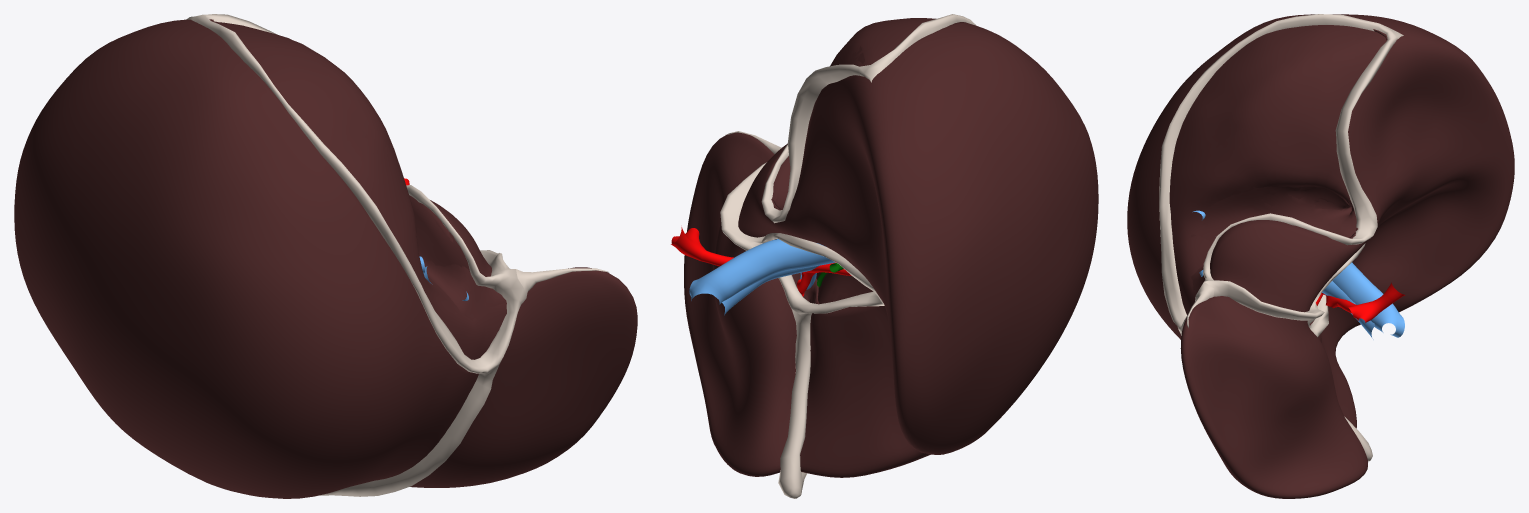
Rendered from liver-male.glb.
3 views of the same model, side by side, from view 1: azimuth 30°, elevation 25°; view 2: azimuth 150°, elevation 25°; view 3: azimuth 270°, elevation 25° (orthographic). The views are drawn at different scales.
Visible parts, largest first — view 1: VH_M_liver_capsule, VH_M_bare_area_of_liver, VH_M_coronary_ligament_of_liver, VH_M_falciform_ligament, VH_M_caudate_lobe_of_liver, VH_M_right_posterosuperior_segment, VH_M_triangular_ligament_of_liver; view 2: VH_M_liver_capsule, VH_M_coronary_ligament_of_liver, VH_M_portal_vein, VH_M_round_ligament_of_liver, VH_M_hepataduodenal_ligament, VH_M_bare_area_of_liver, VH_M_ligamentum_venosum, VH_M_quadrate_lobe_of_liver, VH_M_celiac_trunk, VH_M_hepatic_portal_vein, VH_M_diaphragmatic_surface; view 3: VH_M_liver_capsule, VH_M_bare_area_of_liver, VH_M_coronary_ligament_of_liver, VH_M_caudate_lobe_of_liver, VH_M_diaphragmatic_surface, VH_M_portal_vein, VH_M_ligamentum_venosum, VH_M_right_posterosuperior_segment, VH_M_celiac_trunk, VH_M_hepataduodenal_ligament, VH_M_hepatic_portal_vein, VH_M_right_posteroinferior_segment.
Boxes of the visible parts, <box> form: VH_M_liver_capsule: <box>14,19,637,498</box>; VH_M_bare_area_of_liver: <box>212,21,506,359</box>; VH_M_coronary_ligament_of_liver: <box>186,14,526,373</box>; VH_M_falciform_ligament: <box>319,369,497,496</box>; VH_M_caudate_lobe_of_liver: <box>418,240,506,345</box>; VH_M_right_posterosuperior_segment: <box>290,61,404,215</box>; VH_M_triangular_ligament_of_liver: <box>516,268,608,296</box>; VH_M_liver_capsule: <box>684,22,1098,477</box>; VH_M_coronary_ligament_of_liver: <box>761,14,976,223</box>; VH_M_portal_vein: <box>689,239,835,304</box>; VH_M_round_ligament_of_liver: <box>778,304,811,498</box>; VH_M_hepataduodenal_ligament: <box>761,233,884,313</box>; VH_M_bare_area_of_liver: <box>772,18,936,201</box>; VH_M_ligamentum_venosum: <box>720,162,774,250</box>; VH_M_quadrate_lobe_of_liver: <box>812,274,861,303</box>; VH_M_celiac_trunk: <box>671,227,706,260</box>; VH_M_hepatic_portal_vein: <box>714,265,819,315</box>; VH_M_diaphragmatic_surface: <box>775,46,864,303</box>; VH_M_liver_capsule: <box>1127,14,1514,498</box>; VH_M_bare_area_of_liver: <box>1169,25,1386,314</box>; VH_M_coronary_ligament_of_liver: <box>1159,14,1403,334</box>; VH_M_caudate_lobe_of_liver: <box>1179,186,1356,308</box>; VH_M_diaphragmatic_surface: <box>1197,42,1377,275</box>; VH_M_portal_vein: <box>1332,262,1404,337</box>; VH_M_ligamentum_venosum: <box>1204,280,1324,320</box>; VH_M_right_posterosuperior_segment: <box>1171,29,1351,168</box>; VH_M_celiac_trunk: <box>1348,282,1405,322</box>; VH_M_hepataduodenal_ligament: <box>1307,243,1365,337</box>; VH_M_hepatic_portal_vein: <box>1322,281,1374,339</box>; VH_M_right_posteroinferior_segment: <box>1352,28,1382,61</box>.
Size of the model in its own units: 191 by 202 by 175.
